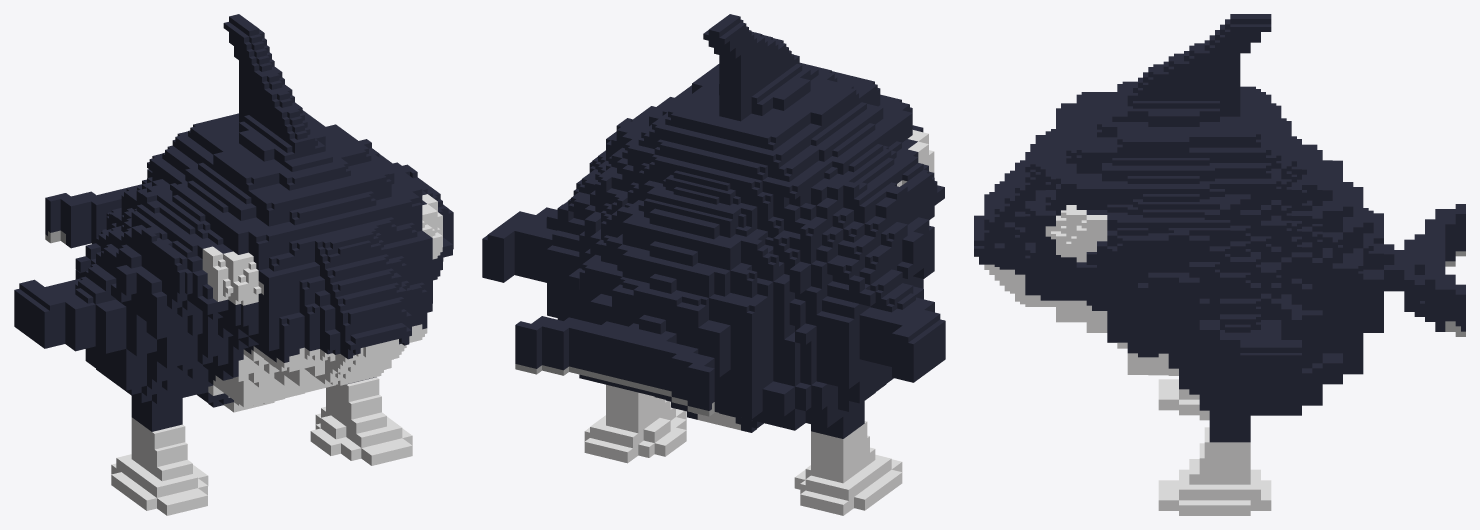
Rendered from asyu.glb.
The picture shows the model from 3 angles, left to right: view 1: azimuth 30°, elevation 25°; view 2: azimuth 150°, elevation 25°; view 3: azimuth 270°, elevation 25°; orthographic projection. The views are drawn at different scales.
Parts seen in each view (by area): view 1: Untitled.001; view 2: Untitled.001; view 3: Untitled.001.
Part boxes in pixels (bbox=[...]): Untitled.001: bbox=[14, 14, 453, 515]; Untitled.001: bbox=[482, 14, 945, 515]; Untitled.001: bbox=[974, 14, 1465, 515].
Bounding box in the file's own units: 4 × 4.02 × 4.13.
1 material, 1 textured.
